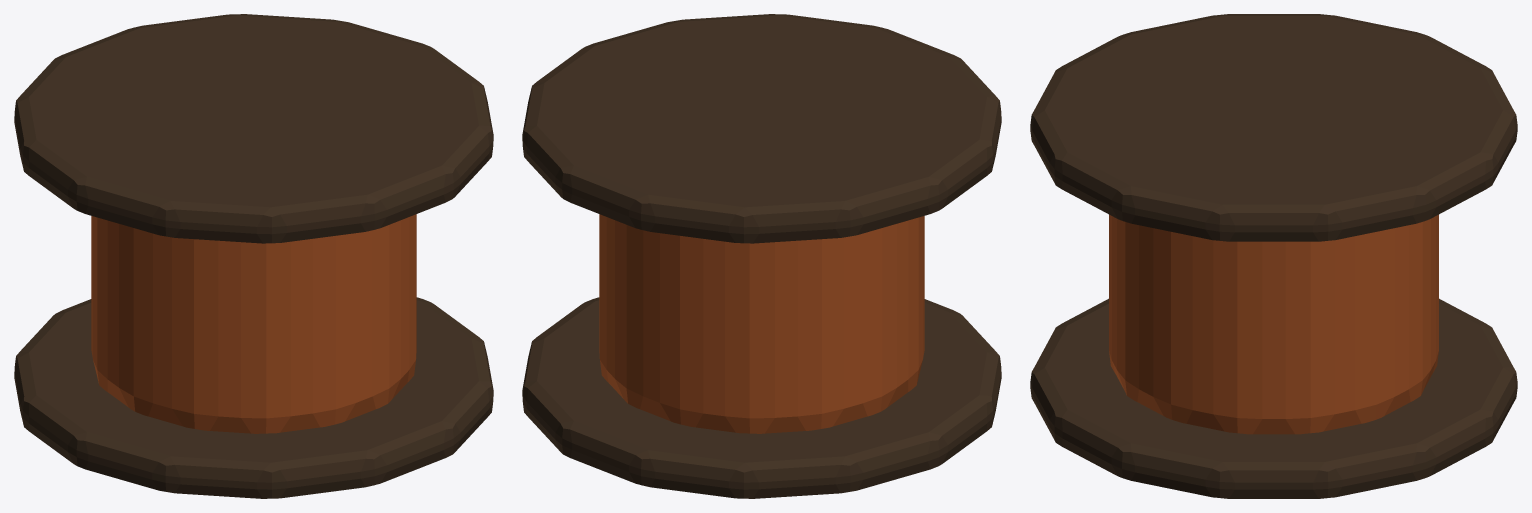
Rendered from mat_copper_wire.glb.
3 views of the same model, side by side, from view 1: azimuth 30°, elevation 25°; view 2: azimuth 150°, elevation 25°; view 3: azimuth 270°, elevation 25° (orthographic).
Parts seen in each view (by area): view 1: CopperSpool_Mesh; view 2: CopperSpool_Mesh; view 3: CopperSpool_Mesh.
Part boxes in pixels (x1,y1,x2,y2): CopperSpool_Mesh: (14,14,493,498); CopperSpool_Mesh: (522,14,1001,498); CopperSpool_Mesh: (1030,14,1517,498).
Bounding box in the file's own units: 0.3705 × 0.25 × 0.3776.
